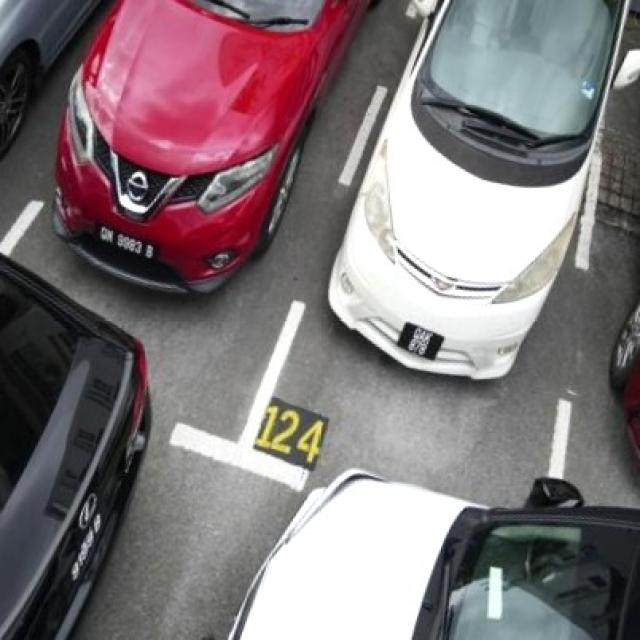Legalparking: (330, 0, 630, 379), (54, 0, 369, 290)
illegalparking: (228, 470, 638, 638), (0, 256, 146, 638), (462, 552, 586, 638)
